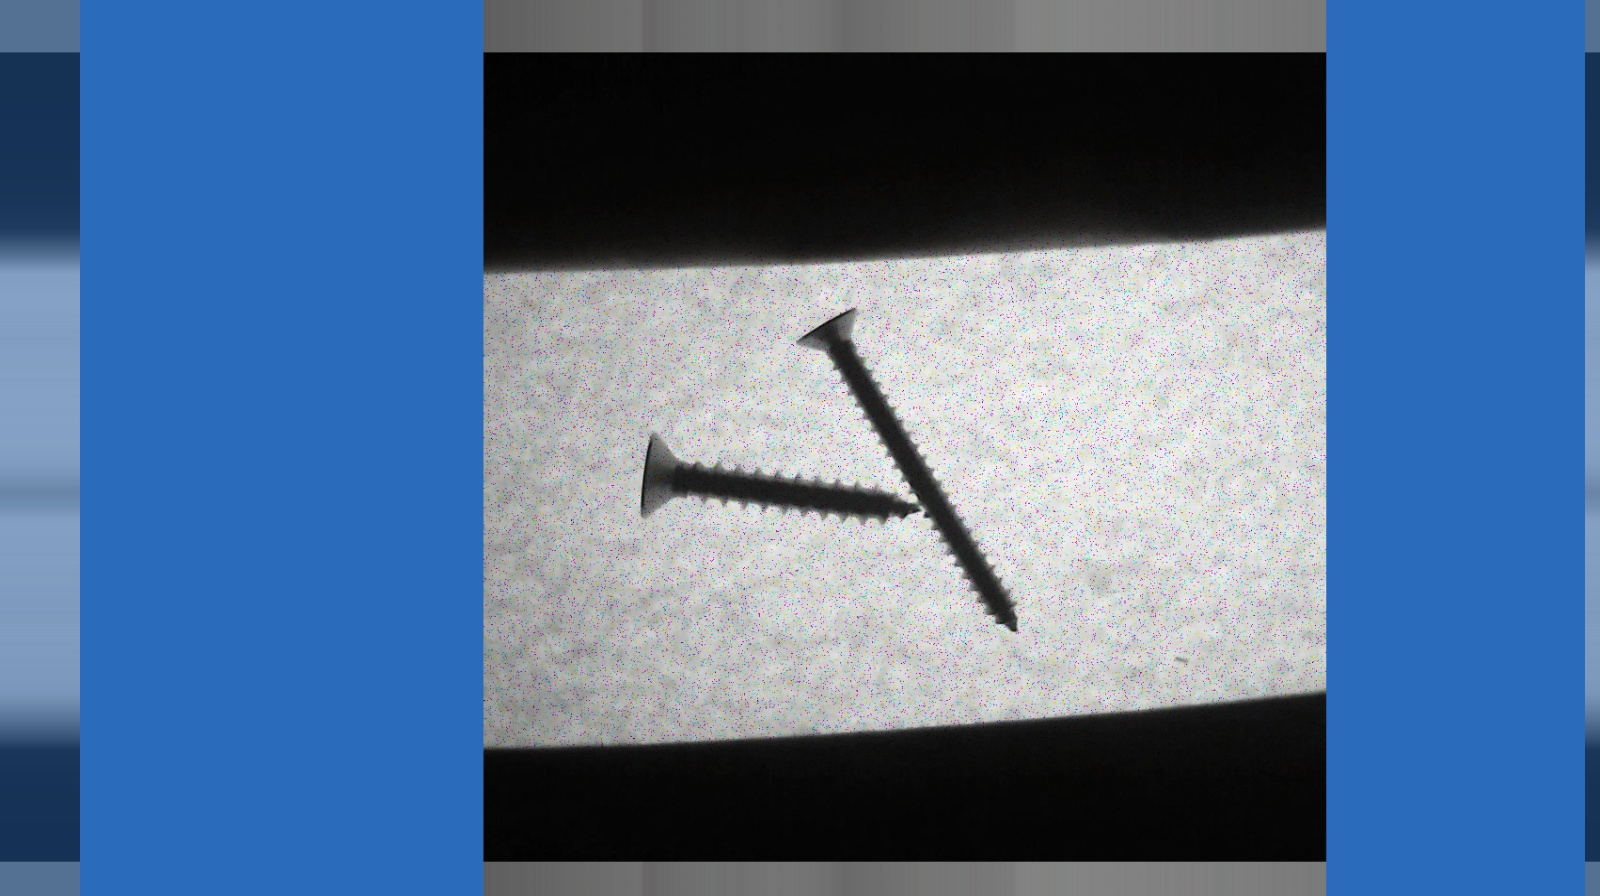S001: (637, 424, 927, 546)
S002: (790, 305, 1024, 635)
